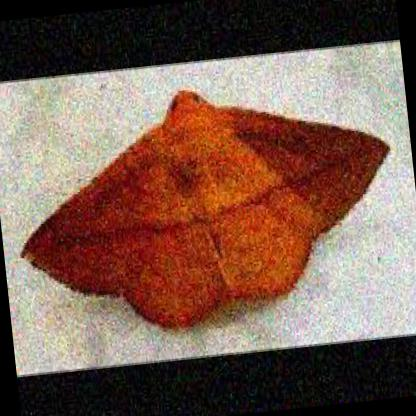Leaf Webber: (19, 83, 390, 339)
